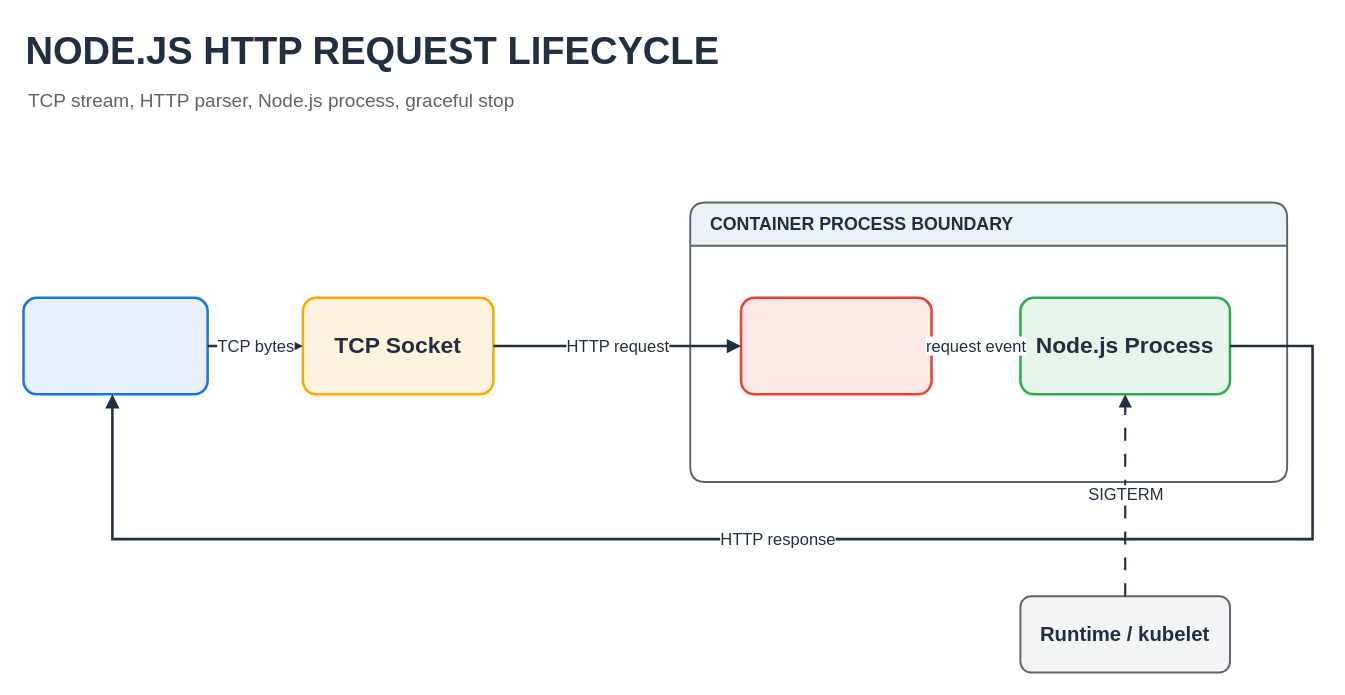
Some shapes in this 1345 by 695 pixel diagram are drawn without their labels. The centre of each missing label's shape, as x and y in pixels:
"Client" belongs at [115,345].
"HTTP Parser" belongs at [835,345].
